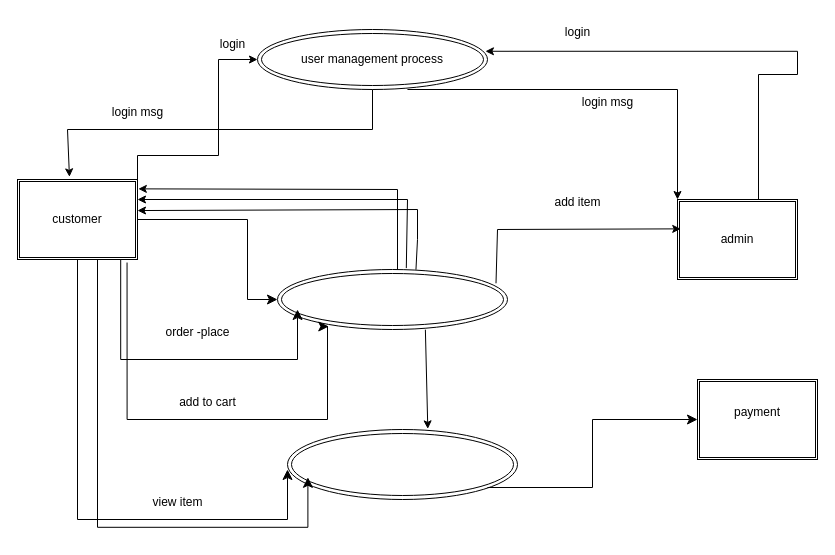
The diagram is 835 pixels wide and 555 high, and some of its shapes have lost their labels. The shapes that lost their labels are listed below. From the top down, each one's box as (x1, y1, x2, y2) in pixels, then its label:
(276, 268, 508, 330): order management process
(286, 428, 518, 500): payment management process
